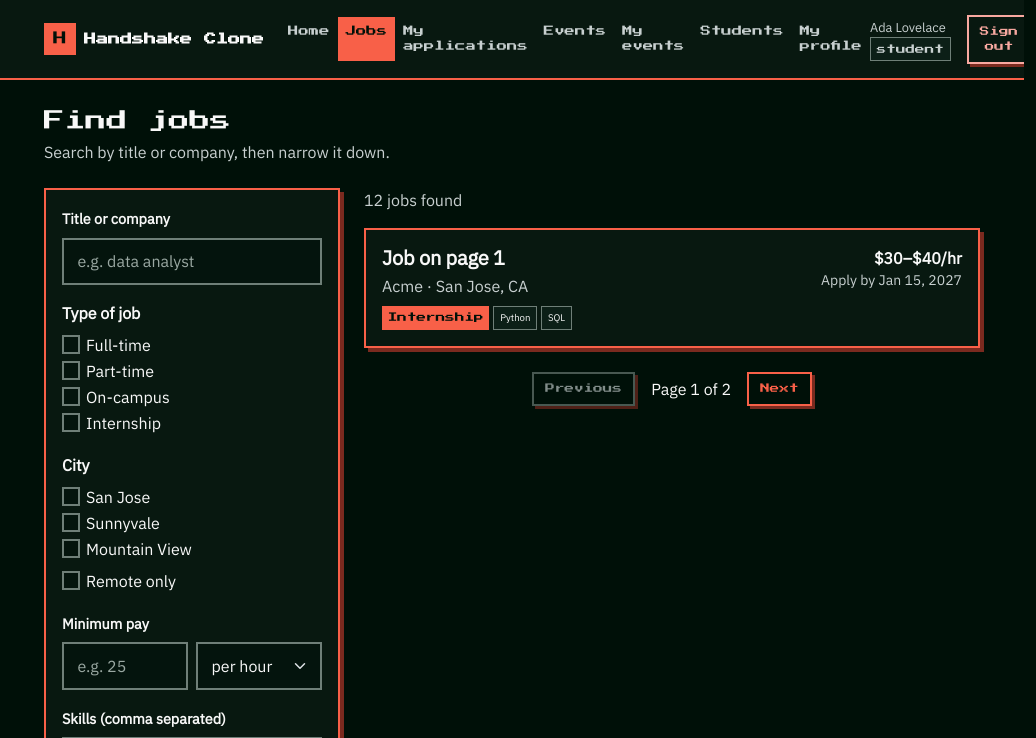
Test: Job search page › moves between pages
Expected: the link "Job on page 1" is shown, [382, 244, 505, 271]
Expected: the text with test id "page-indicator" reads "Page 1 of 2", [651, 377, 731, 401]
Click the button "Next" at point(780, 389), box [747, 372, 812, 406]
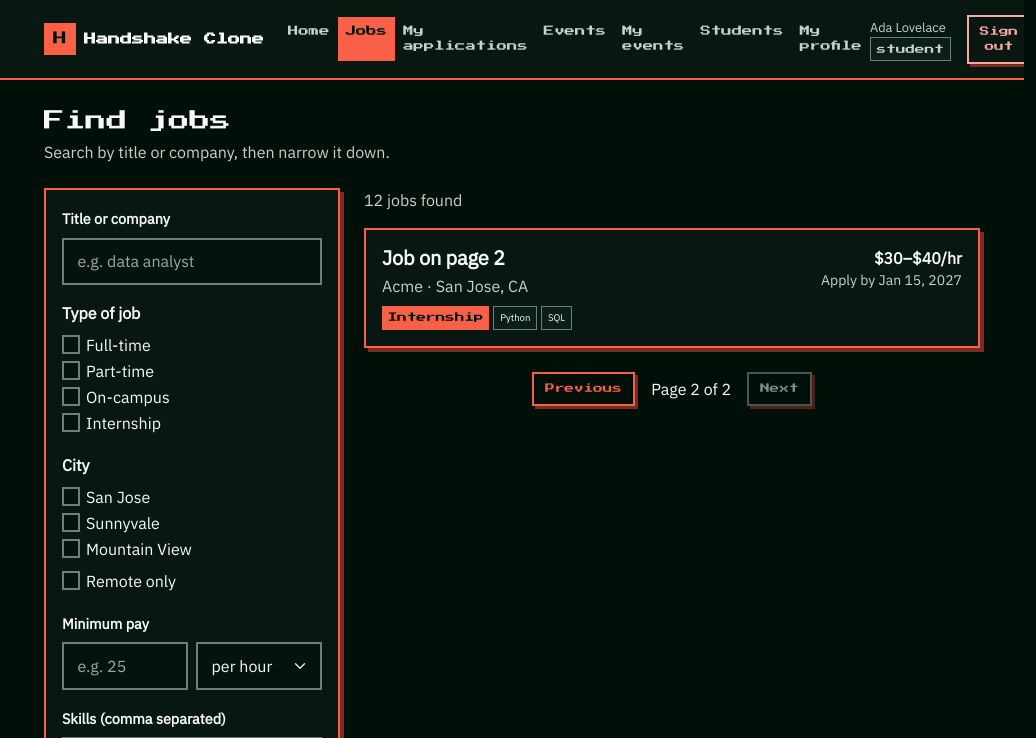
Expected: the link "Job on page 2" is shown, [382, 244, 505, 271]
Expected: the button "Next" is disabled, [747, 372, 812, 406]
